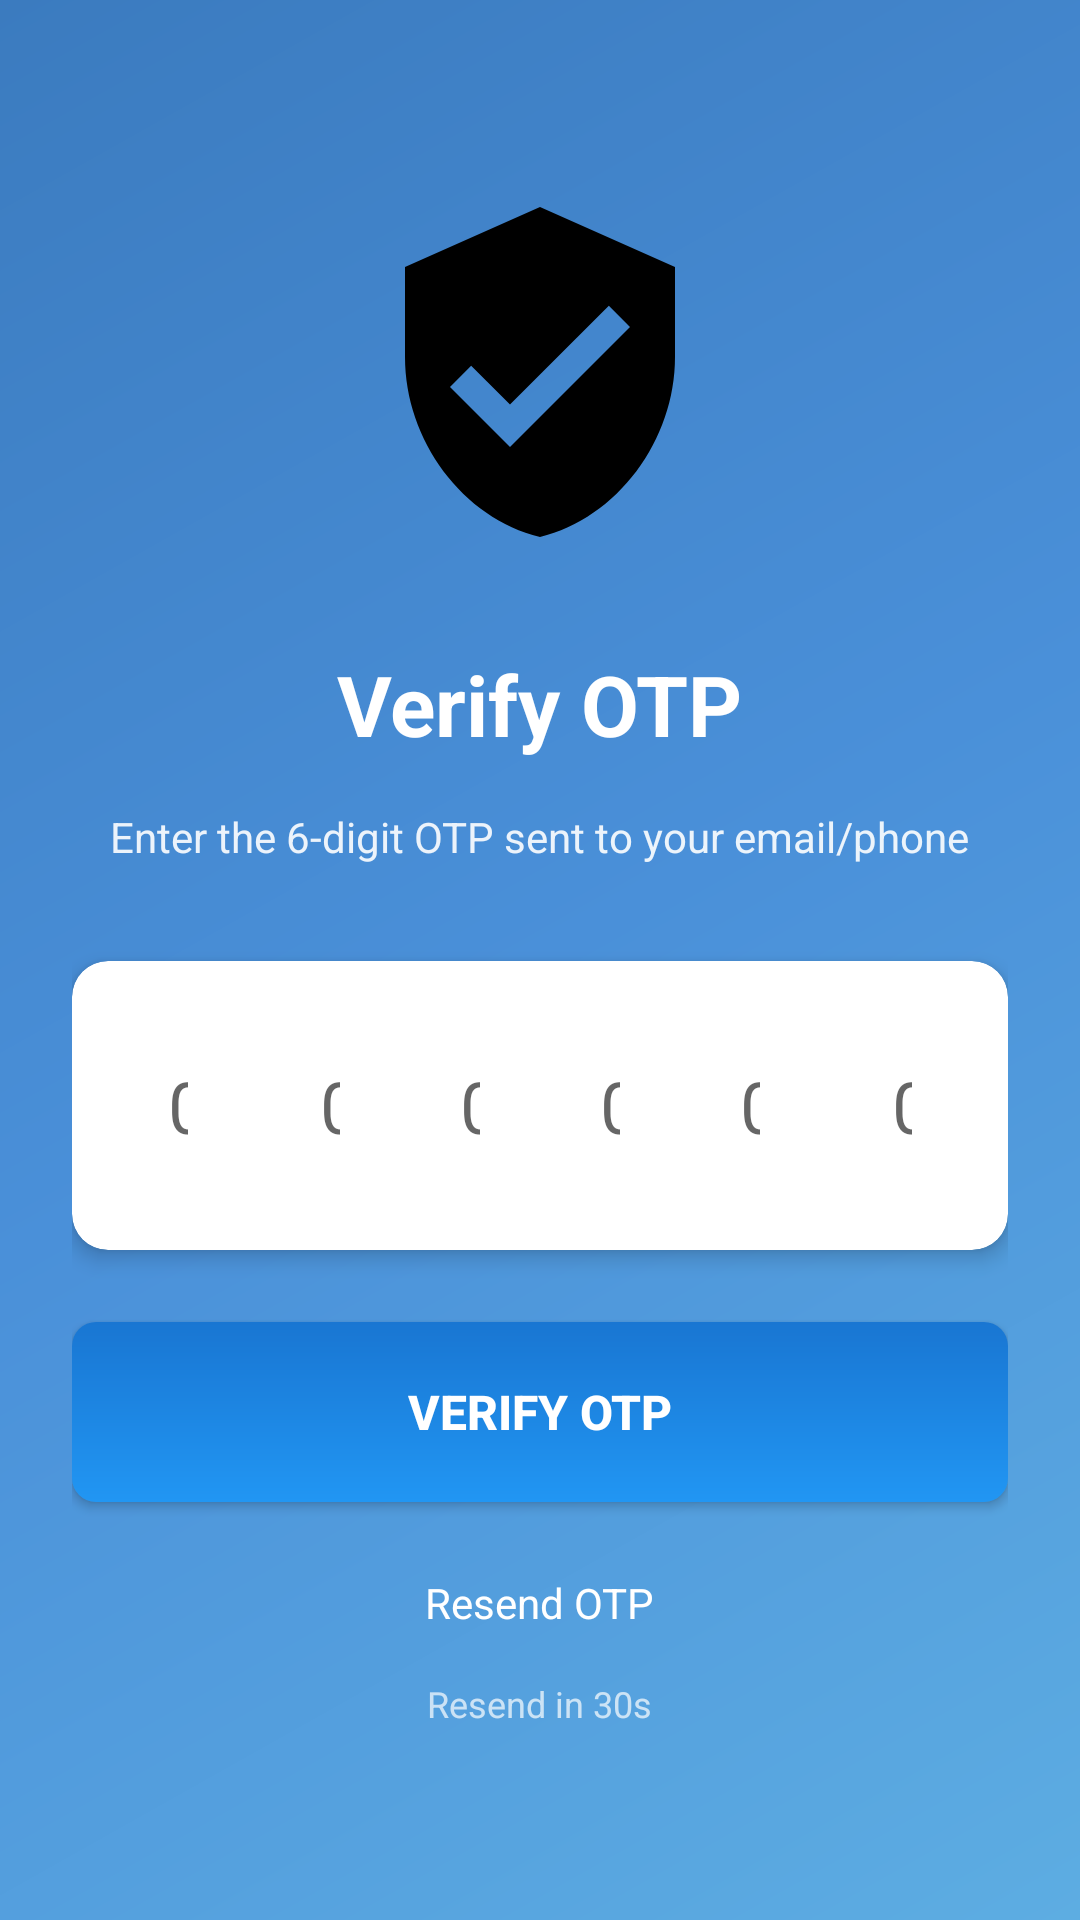

Icons on this 1080px×1920px Android screen, each with its box as (left=x1, top=y1, right=x2, bottom=y2):
Verification: (left=405, top=207, right=675, bottom=537)
